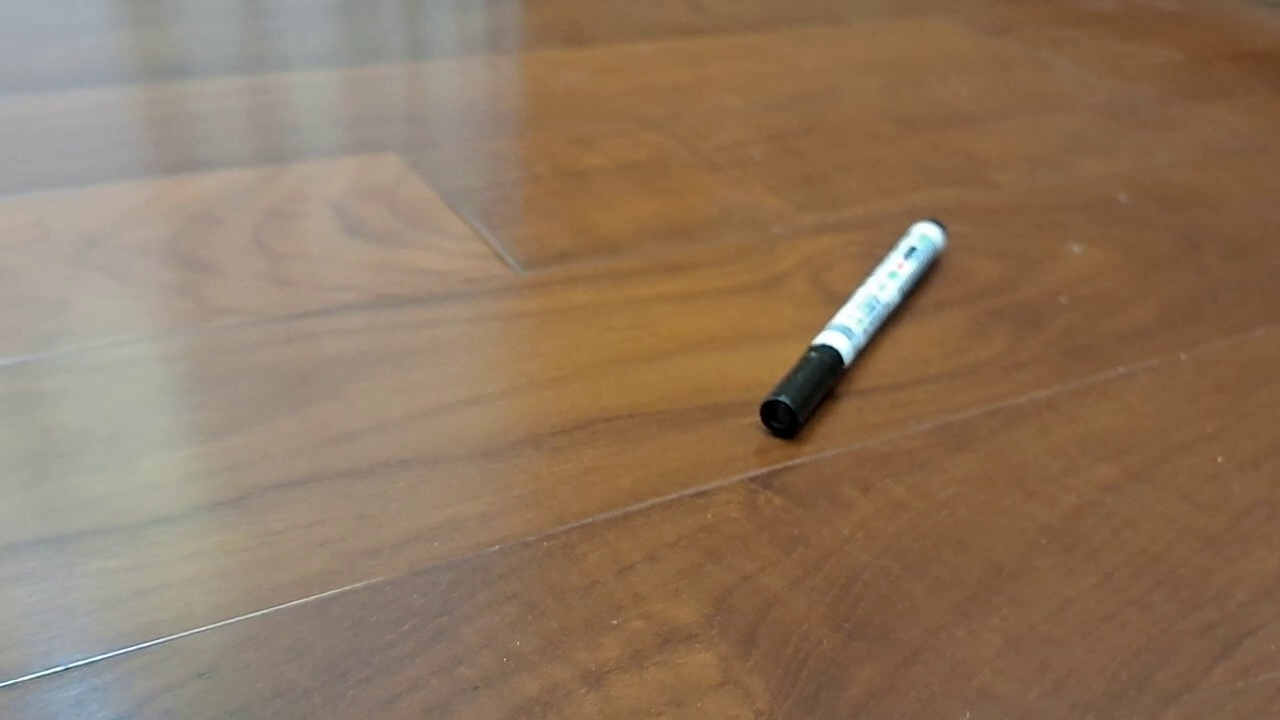pen: (759, 217, 950, 440)
